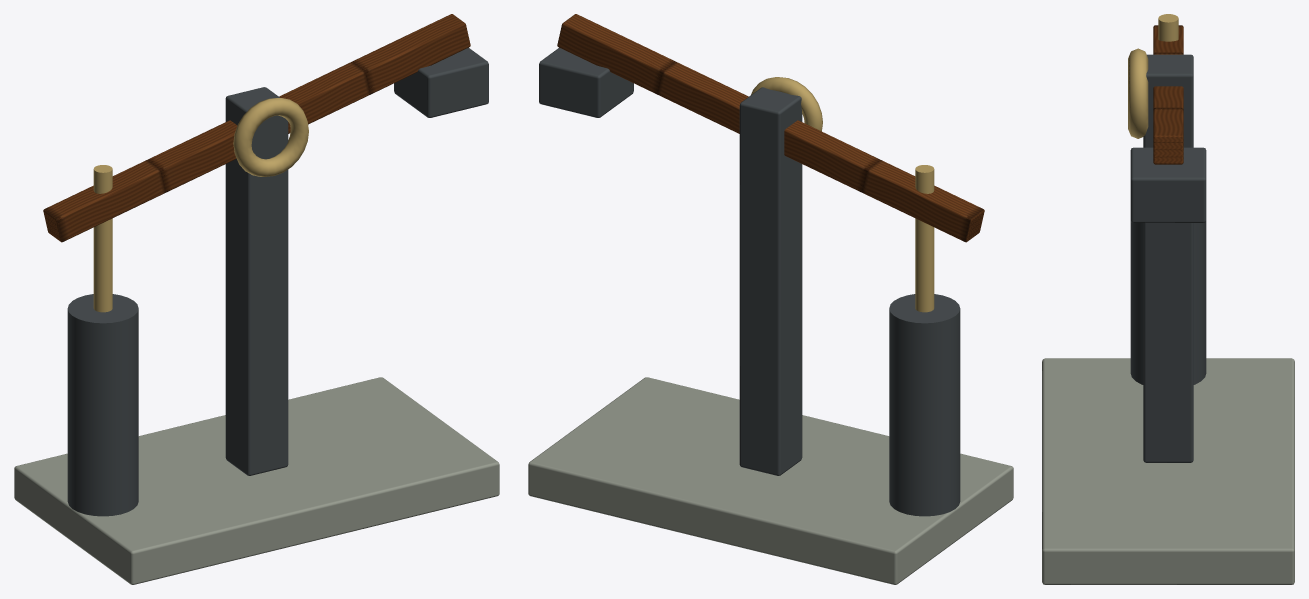
File: undercity-sewers-and-thieves-den-beam-pump-94312406__27193.glb
3 views of the same model, side by side, from view 1: azimuth 30°, elevation 25°; view 2: azimuth 150°, elevation 25°; view 3: azimuth 270°, elevation 25° (orthographic). The views are drawn at different scales.
Parts seen in each view (by area): view 1: beam-pump; view 2: beam-pump; view 3: beam-pump.
Boxes of the visible parts, x1=… form: beam-pump: x1=14, y1=14, x2=499, y2=584; beam-pump: x1=528, y1=14, x2=1013, y2=584; beam-pump: x1=1042, y1=14, x2=1294, y2=584.
Bounding box in the file's own units: 2.06 × 2.01 × 1.
4 materials, 1 textured.
